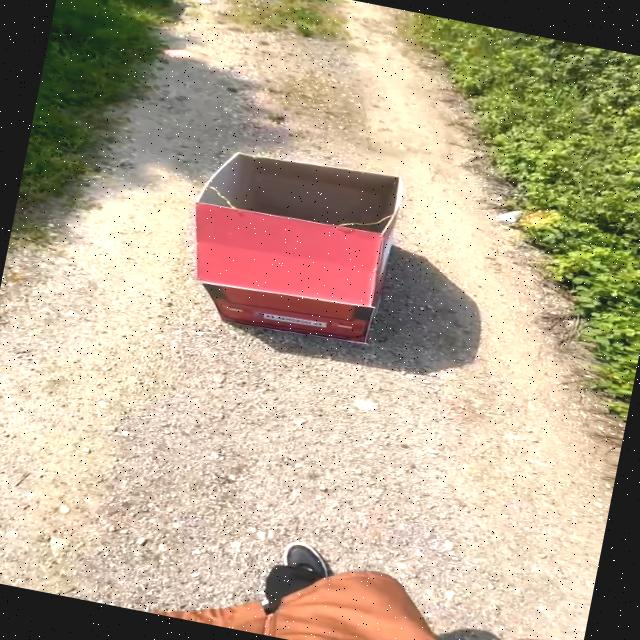red_car: (138, 124, 472, 376)
